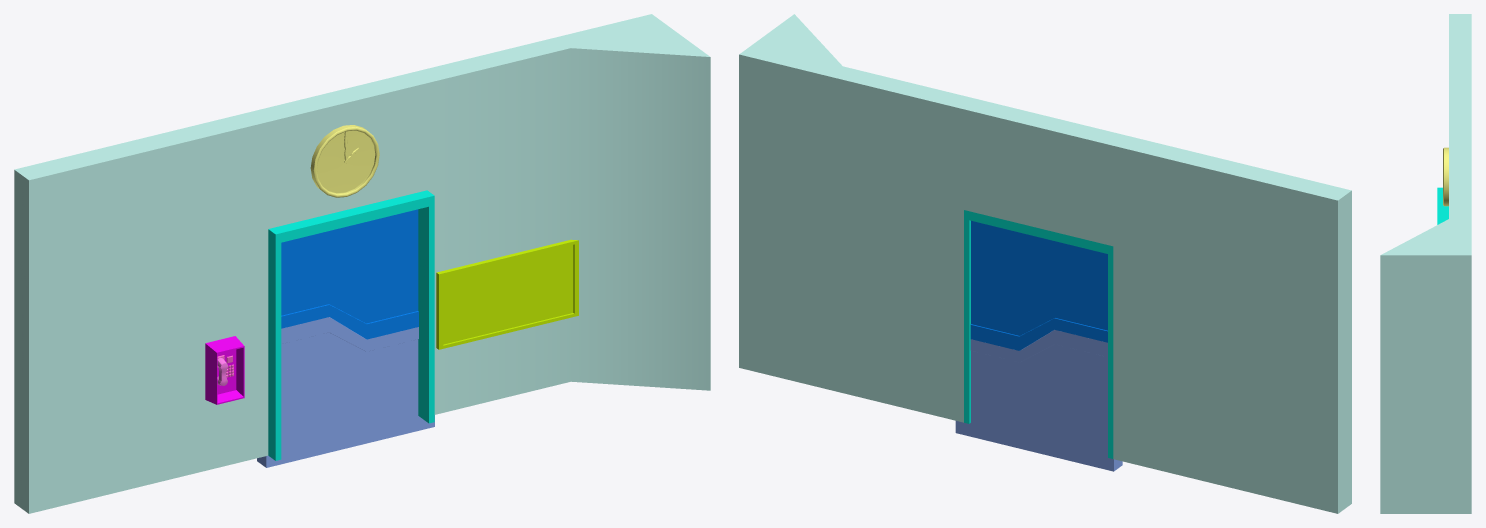
File: 1x1DoorVariation2.fbx
The picture shows the model from 3 angles, left to right: view 1: azimuth 30°, elevation 25°; view 2: azimuth 150°, elevation 25°; view 3: azimuth 270°, elevation 25°; orthographic projection. The views are drawn at different scales.
Visible parts, largest first — view 1: Wall, DootBottomHalf, DoorTopHalf, Billboard, DoorFrame, Reloj, TelefonoCaja; view 2: Wall, DootBottomHalf, DoorTopHalf, DoorFrame; view 3: Wall, Reloj, DoorFrame.
Part boxes in pixels (bbox=[...]): Wall: bbox=[14, 14, 710, 513]; DootBottomHalf: bbox=[257, 317, 434, 467]; DoorTopHalf: bbox=[281, 209, 418, 339]; Billboard: bbox=[436, 239, 578, 349]; DoorFrame: bbox=[268, 190, 434, 460]; Reloj: bbox=[310, 125, 379, 197]; TelefonoCaja: bbox=[205, 336, 244, 404]; Wall: bbox=[739, 14, 1351, 513]; DootBottomHalf: bbox=[955, 330, 1122, 471]; DoorTopHalf: bbox=[970, 220, 1107, 350]; DoorFrame: bbox=[964, 210, 1113, 458]; Wall: bbox=[1380, 14, 1471, 513]; Reloj: bbox=[1443, 147, 1448, 206]; DoorFrame: bbox=[1437, 187, 1448, 224].
Bounding box in the file's own units: 100 × 52.28 × 16.
